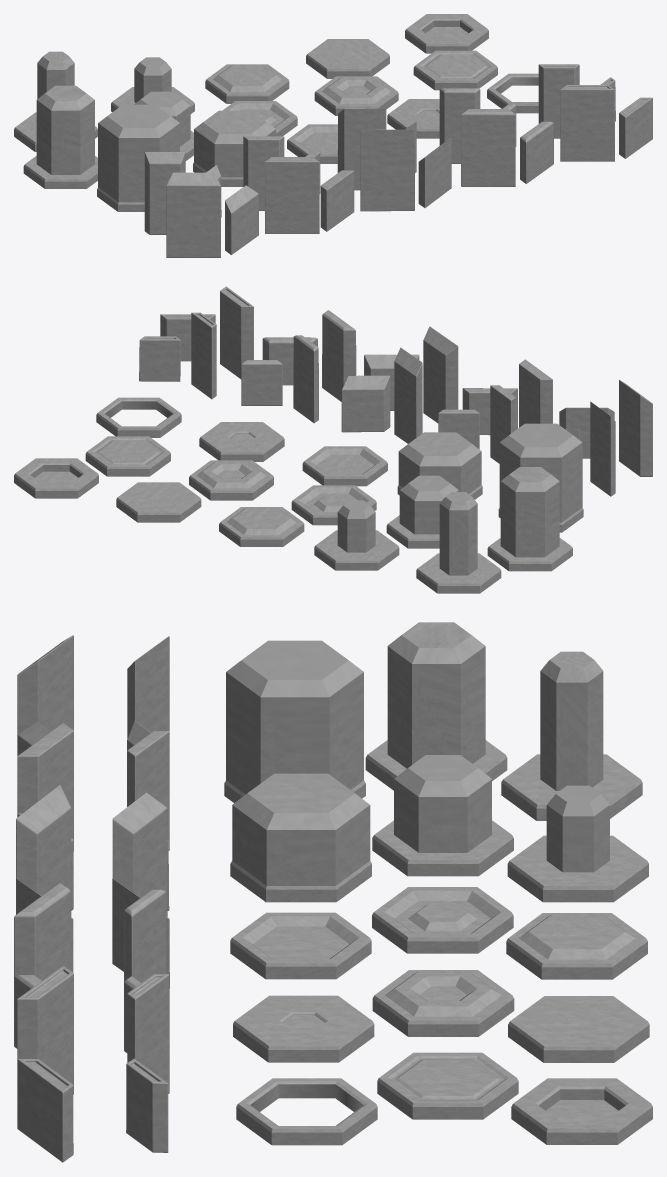
Rendered from hextile.fbx.
The picture shows the model from 3 angles, top to bottom: view 1: azimuth 30°, elevation 25°; view 2: azimuth 150°, elevation 25°; view 3: azimuth 270°, elevation 25°; orthographic projection. The views are drawn at different scales.
Visible parts, largest first — view 1: T15, T14, E5OH, E3OH, E2OH, E1OH, E4OH, T12, T05, T01, T07, T04 (+18 smaller); view 2: T14, T13, T15, T12, T10, T11, E3OH, T05, T01, T04, T02, E3IL (+22 smaller); view 3: T15, T12, T14, T11, T13, T10, T09, T05, T03, T02, T01, T04 (+16 smaller).
Boxes of the visible parts, <box> form: T15: <box>97,104,179,211</box>; T14: <box>23,85,97,188</box>; E5OH: <box>166,172,220,257</box>; E3OH: <box>360,129,414,211</box>; E2OH: <box>461,109,515,186</box>; E1OH: <box>560,85,614,161</box>; E4OH: <box>265,157,319,233</box>; T12: <box>193,110,275,186</box>; T05: <box>413,50,497,90</box>; T01: <box>306,39,389,78</box>; T07: <box>205,64,289,103</box>; T04: <box>405,14,488,53</box>; T14: <box>487,467,572,571</box>; T13: <box>416,492,501,593</box>; T15: <box>498,423,583,532</box>; T12: <box>397,432,482,499</box>; T10: <box>314,500,399,570</box>; T11: <box>386,475,458,548</box>; E3OH: <box>423,326,458,423</box>; T05: <box>85,436,170,476</box>; T01: <box>116,482,201,522</box>; T04: <box>14,458,98,498</box>; T02: <box>189,460,273,500</box>; E3IL: <box>341,375,390,432</box>; T15: <box>224,640,365,802</box>; T12: <box>230,773,371,902</box>; T14: <box>365,622,507,790</box>; T11: <box>372,755,513,876</box>; T13: <box>501,651,642,820</box>; T10: <box>507,785,648,902</box>; T09: <box>230,912,371,979</box>; T05: <box>377,1052,518,1119</box>; T03: <box>233,995,374,1062</box>; T02: <box>372,970,514,1036</box>; T01: <box>508,996,649,1062</box>; T04: <box>511,1078,652,1144</box>.
Size of the model in its own units: 903 by 1395 by 214.
1 material, 1 textured.
